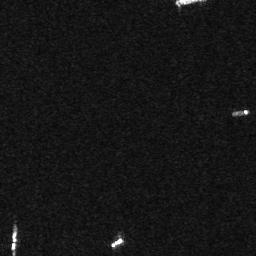ship: (10, 226, 18, 250), (110, 235, 124, 248)
